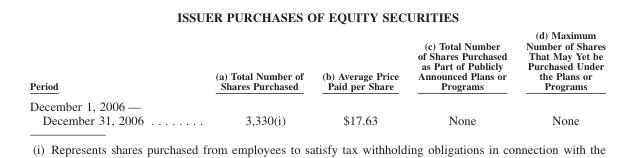table: (29, 29, 605, 127)
table column: (29, 29, 178, 127), (178, 29, 312, 127), (407, 29, 515, 127), (312, 29, 407, 127), (515, 29, 605, 127)
table column header: (29, 29, 605, 80)
table row: (29, 29, 605, 80), (29, 95, 605, 127), (29, 80, 605, 95)
